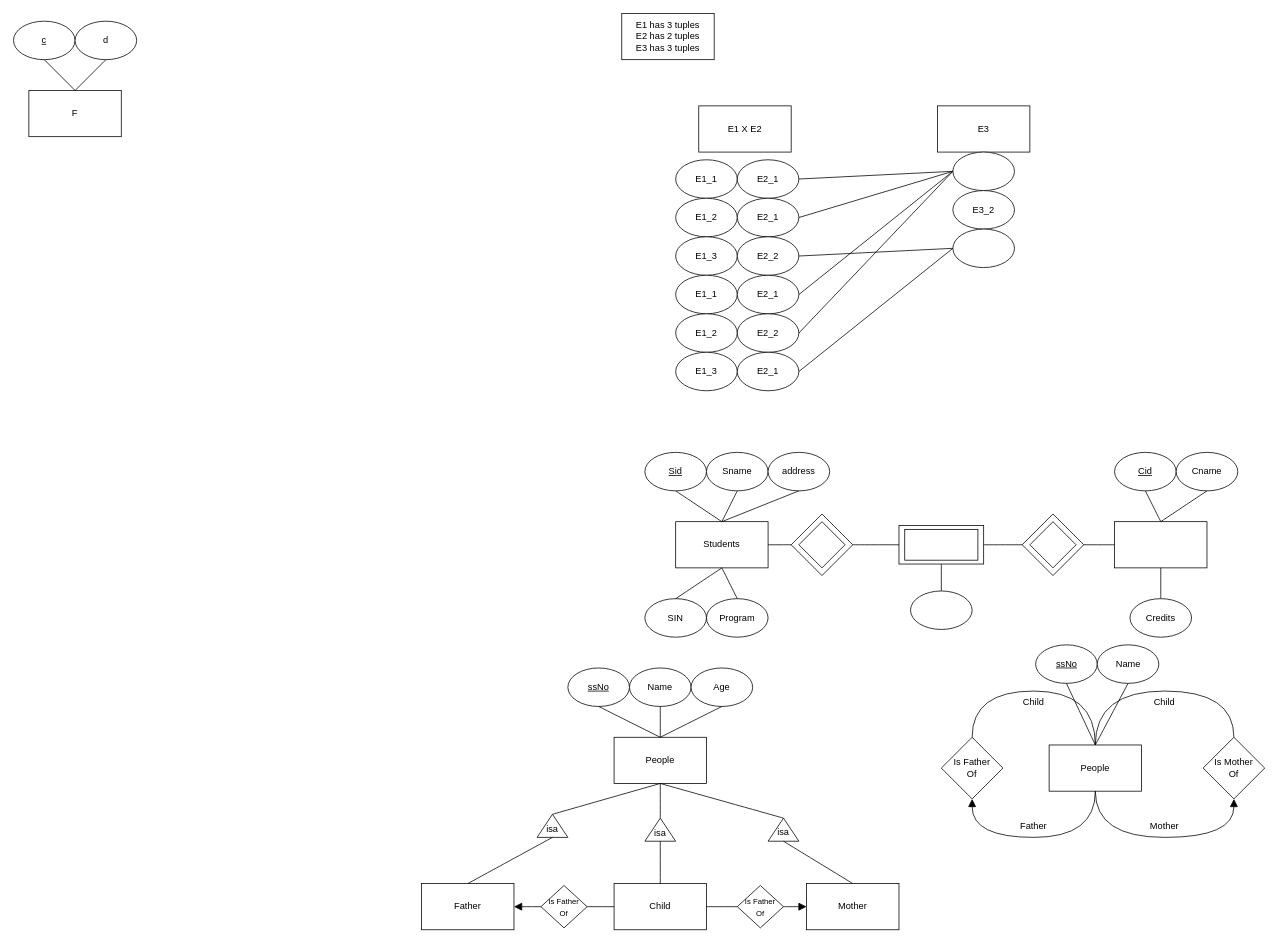
Image size: 1278x943. Some labels were removed from this diagram. The centre of each missing label's shape, as x and y in pixels:
"Courses" belongs at (1160,544).
"E3_1" belongs at (983,171).
"E3_3" belongs at (983,248).
"Enrollments" belongs at (941,544).
"Given to" belongs at (1052,544).
"Grade" belongs at (941,609).
"Registers for" belongs at (821,544).
